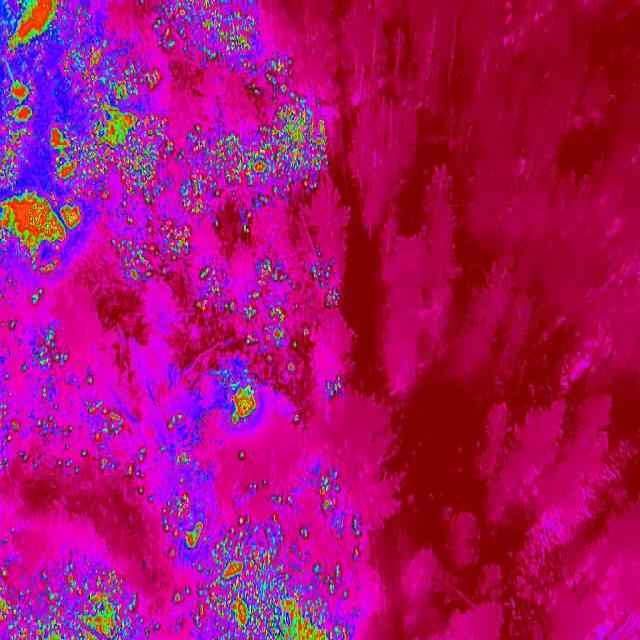fire: (171, 494, 366, 638), (174, 101, 334, 215), (0, 559, 138, 639), (89, 103, 172, 209), (247, 255, 314, 377), (153, 0, 264, 61), (2, 190, 84, 272), (61, 39, 163, 103), (108, 218, 200, 286), (4, 0, 63, 56), (158, 489, 206, 552), (81, 398, 126, 459), (48, 126, 88, 186), (160, 412, 200, 470), (194, 268, 240, 318), (0, 77, 40, 132), (218, 376, 262, 426), (24, 326, 66, 376), (262, 50, 300, 102), (311, 254, 346, 308), (312, 474, 344, 521), (0, 395, 23, 459), (0, 133, 25, 189), (318, 373, 348, 405), (122, 450, 150, 480), (26, 288, 47, 308), (237, 221, 250, 237), (236, 448, 246, 464)
